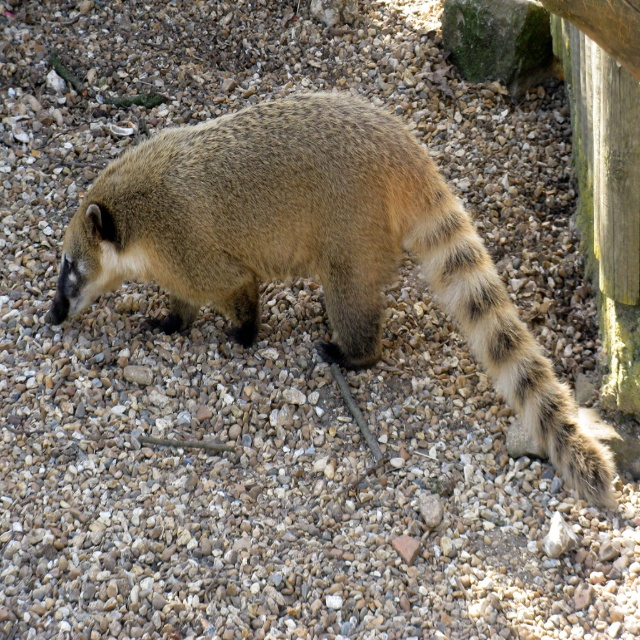Raccoon: (39, 91, 622, 510)
